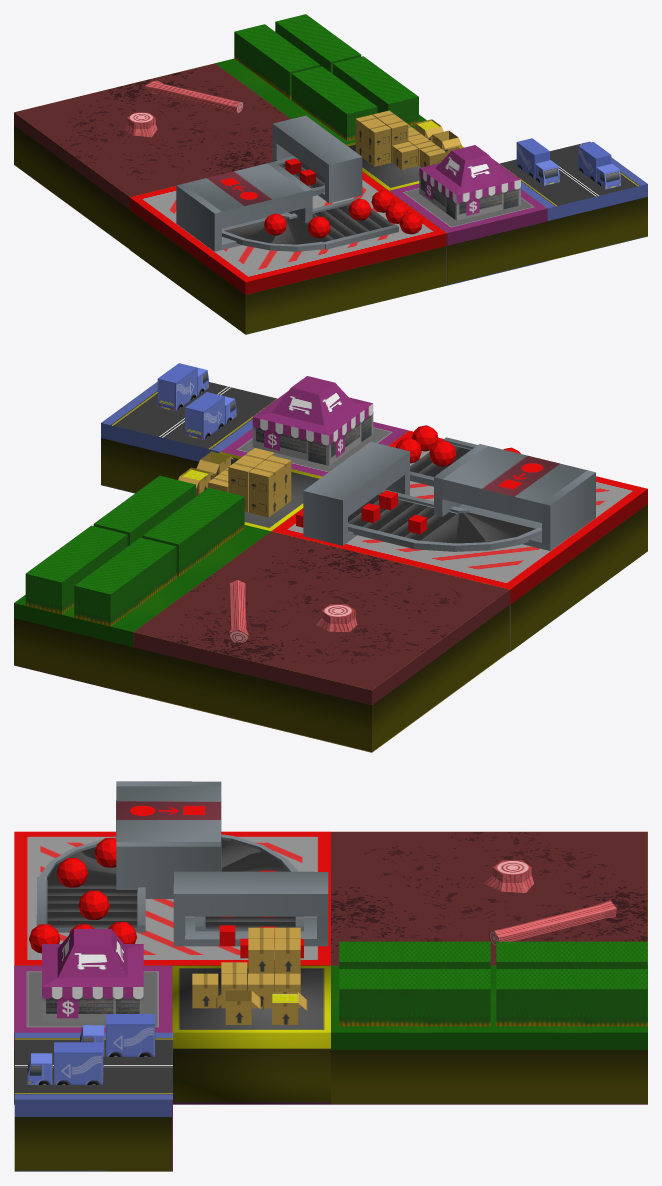
Rendered from tofuscene06.gltf.
3 views of the same model, one above another, from view 1: azimuth 30°, elevation 25°; view 2: azimuth 150°, elevation 25°; view 3: azimuth 270°, elevation 25° (orthographic). The views are drawn at different scales.
Parts seen in each view (by area): view 1: bLand.021, bProcessing.007, bTransport.004, bRetail.003, Cube.085, Cube.129, Cube.108, bFarm_plant.001, bFarm_plant.004, bFarm_plant.002, Cube.083, bFarm_plant.003 (+13 smaller); view 2: bLand.021, bProcessing.007, Cube.085, bTransport.004, bFarm.052, Cube.129, Cube.108, bFarm_plant.004, bFarm_plant.001, bFarm_plant.003, bFarm_plant.002, Cube.109 (+14 smaller); view 3: bLand.021, bTransport.004, bPackaging.004, bFarm.053, bFarm.052, bProcessing.007, Cube.085, Cube.108, bFarm_plant.002, bFarm_plant.003, Cube.129, bRetail.003 (+20 smaller).
Part boxes in pixels (x1,y1,x2,y2): bLand.021: (14, 63, 290, 249); bProcessing.007: (129, 171, 446, 334); bTransport.004: (499, 141, 647, 260); bRetail.003: (389, 183, 547, 285); Cube.085: (176, 161, 312, 251); Cube.129: (419, 145, 520, 220); Cube.108: (272, 115, 362, 203); bFarm_plant.001: (291, 66, 377, 141); bFarm_plant.004: (234, 24, 320, 98); bFarm_plant.002: (333, 56, 418, 125); Cube.083: (286, 197, 398, 249); bFarm_plant.003: (275, 14, 361, 73); bLand.021: (133, 531, 509, 752); bProcessing.007: (272, 430, 647, 651); Cube.085: (434, 444, 595, 550); bTransport.004: (101, 381, 277, 493); bFarm.052: (14, 576, 201, 694); Cube.129: (252, 376, 373, 465); Cube.108: (303, 442, 409, 545); bFarm_plant.004: (74, 537, 176, 626); bFarm_plant.001: (142, 487, 244, 576); bFarm_plant.003: (25, 525, 127, 614); bFarm_plant.002: (93, 475, 195, 546); Cube.109: (414, 508, 541, 551); bLand.021: (331, 831, 647, 965); bTransport.004: (14, 1032, 172, 1171); bPackaging.004: (172, 965, 330, 1104); bFarm.053: (331, 965, 489, 1104); bFarm.052: (489, 965, 647, 1104); bProcessing.007: (14, 831, 330, 965); Cube.085: (116, 781, 221, 898); Cube.108: (173, 871, 328, 946); bFarm_plant.002: (339, 969, 490, 1026); bFarm_plant.003: (496, 969, 647, 1026); Cube.129: (42, 929, 143, 1021); bRetail.003: (14, 965, 172, 1104).
Bounding box in the file's own units: 4 × 0.9425 × 4.
1 material, 1 textured.
